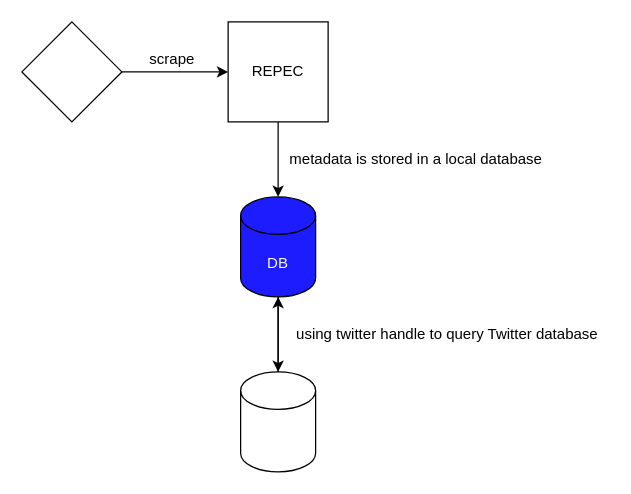
This 631x494 diagram has some shape labels left out. The shapes that lost their labels are listed below. From the top down, each one's box as (x1, y1, x2, y2) in pixels, then its label:
(21, 21, 122, 122): scraper.py
(239, 371, 316, 472): Twitter API
